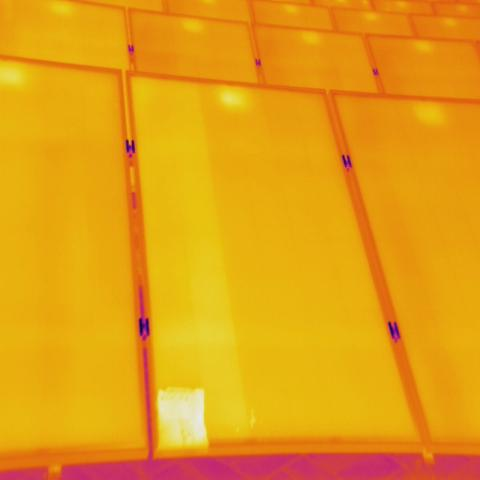fault: (154, 384, 214, 455)
